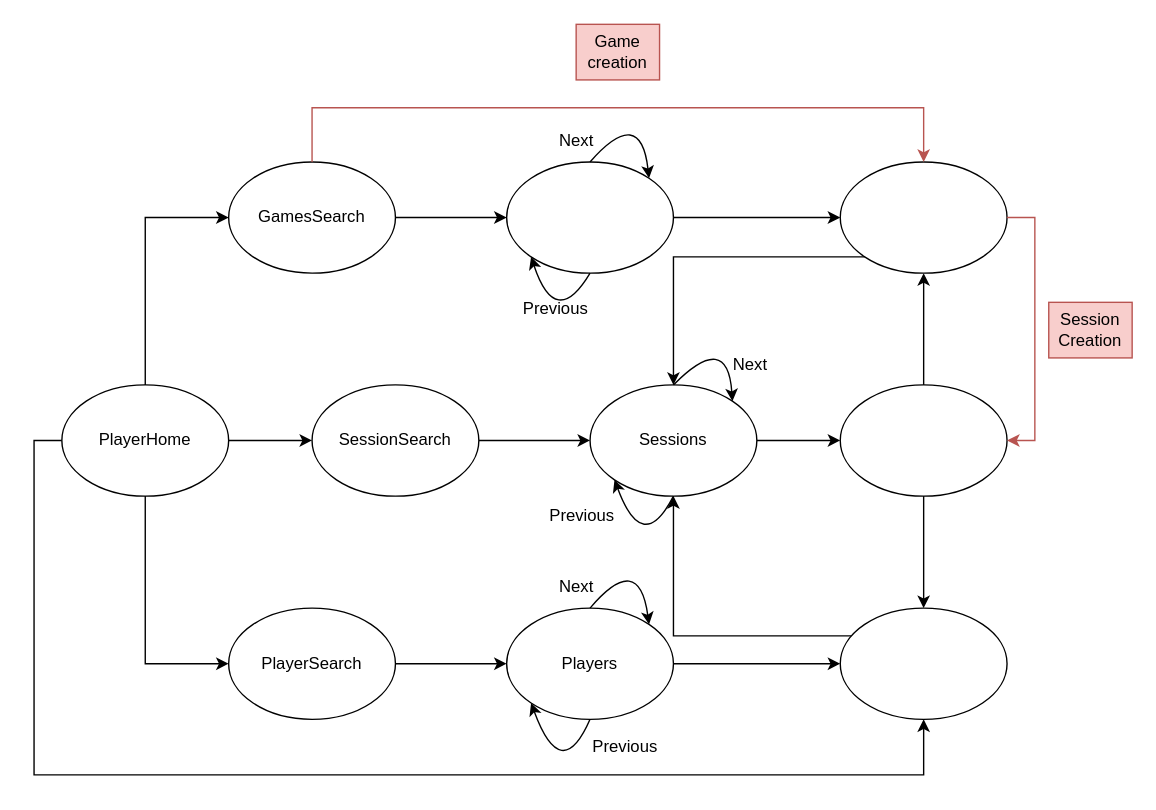
The diagram is 1156 pixels wide and 810 high, and some of its shapes have lost their labels. The shapes that lost their labels are listed below. From the top down, each one's centre as x and y in pixels, then its label:
the point at 589,217: Games
the point at 923,217: GameDetails
the point at 923,440: SessionDetails
the point at 923,663: PlayerDetails
